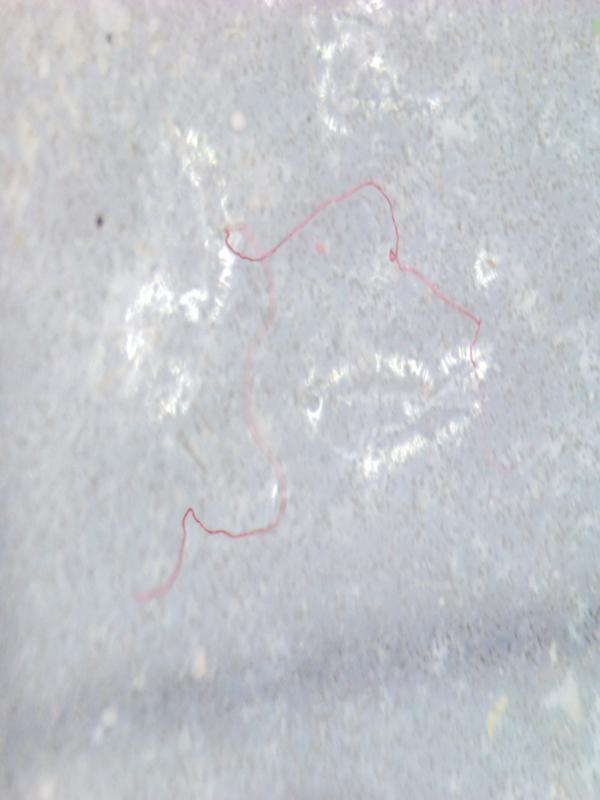microplastic: (131, 174, 495, 603)
